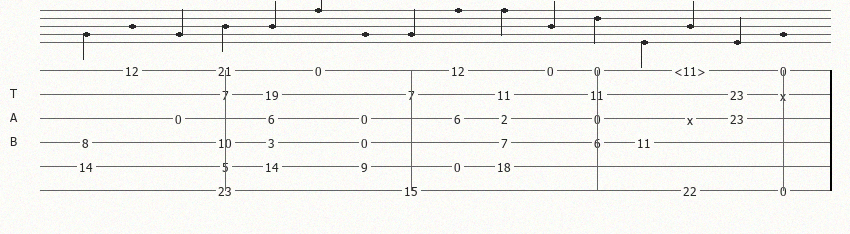0: (175, 112, 186, 125), (315, 64, 326, 77), (361, 112, 372, 125), (361, 136, 372, 149), (454, 160, 465, 173), (547, 64, 558, 77), (594, 64, 605, 77), (594, 112, 605, 125), (780, 184, 791, 197), (780, 64, 791, 77)
10: (218, 136, 236, 149)
11: (497, 88, 515, 101), (590, 88, 608, 101), (637, 136, 655, 149)
12: (125, 64, 143, 77), (451, 64, 469, 77)
14: (79, 160, 97, 173), (265, 160, 283, 173)
15: (404, 184, 422, 197)
18: (497, 160, 515, 173)
19: (265, 88, 283, 101)
2: (501, 112, 512, 125)
21: (218, 64, 236, 77)
22: (683, 184, 701, 197)
23: (218, 184, 236, 197), (730, 88, 748, 101), (730, 112, 748, 125)
3: (268, 136, 279, 149)
5: (222, 160, 233, 173)
6: (268, 112, 279, 125), (454, 112, 465, 125), (594, 136, 605, 149)
7: (222, 88, 233, 101), (408, 88, 419, 101), (501, 136, 512, 149)
8: (82, 136, 93, 149)
9: (361, 160, 372, 173)
harmonic: (674, 64, 710, 77)
x: (687, 113, 697, 124), (780, 89, 790, 100)
